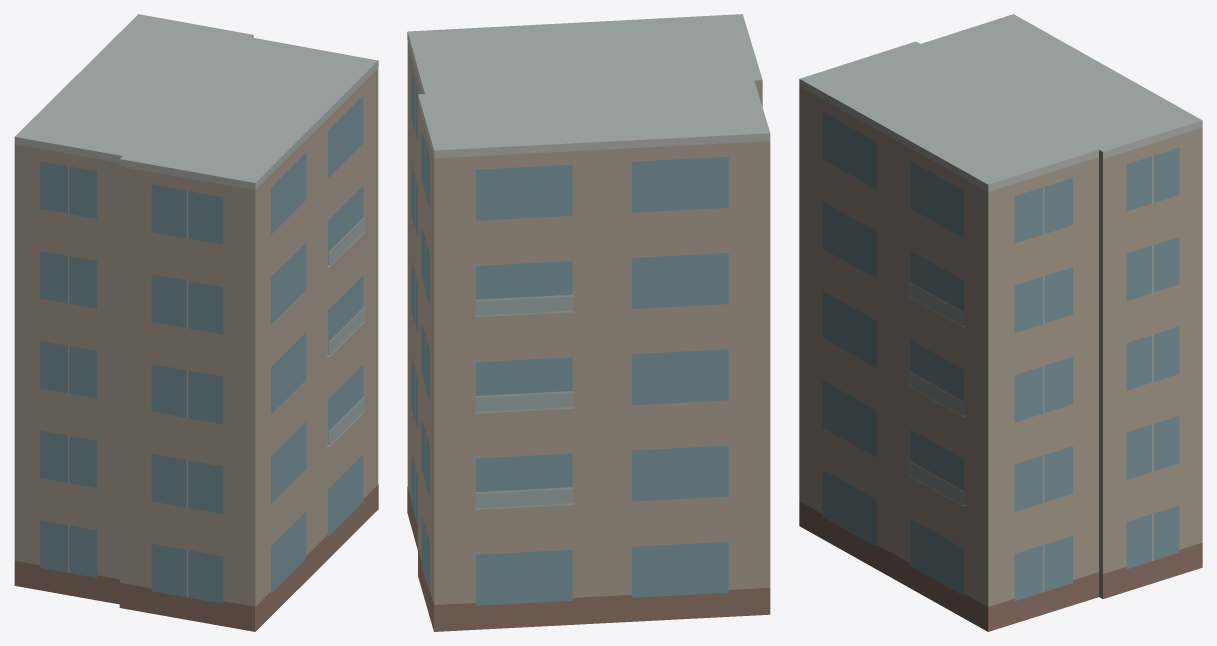
The model's file is survey-upis-32817561.glb.
The picture shows the model from 3 angles, left to right: view 1: azimuth 30°, elevation 25°; view 2: azimuth 150°, elevation 25°; view 3: azimuth 270°, elevation 25°; orthographic projection. The views are drawn at different scales.
Visible parts, largest first — view 1: survey-upis-32817561.tmp; view 2: survey-upis-32817561.tmp; view 3: survey-upis-32817561.tmp.
Part boxes in pixels (x1,y1,x2,y2): survey-upis-32817561.tmp: (14, 14, 378, 631); survey-upis-32817561.tmp: (407, 14, 770, 631); survey-upis-32817561.tmp: (799, 14, 1202, 631).
Size of the model in its own units: 12.29 by 15 by 12.27.
